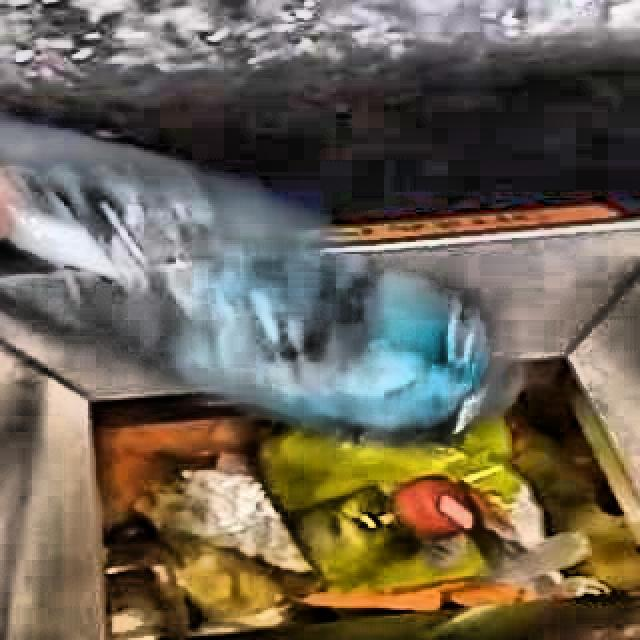plastic: (0, 125, 485, 436)
